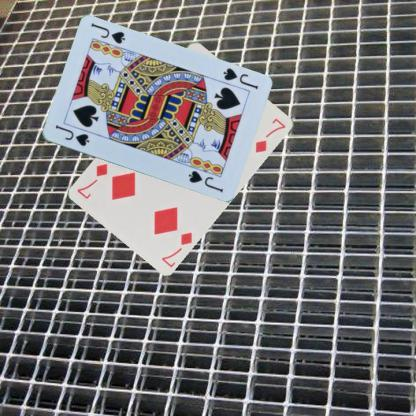7d: (159, 229, 193, 268)
Js: (220, 66, 260, 92), (52, 122, 91, 148)
